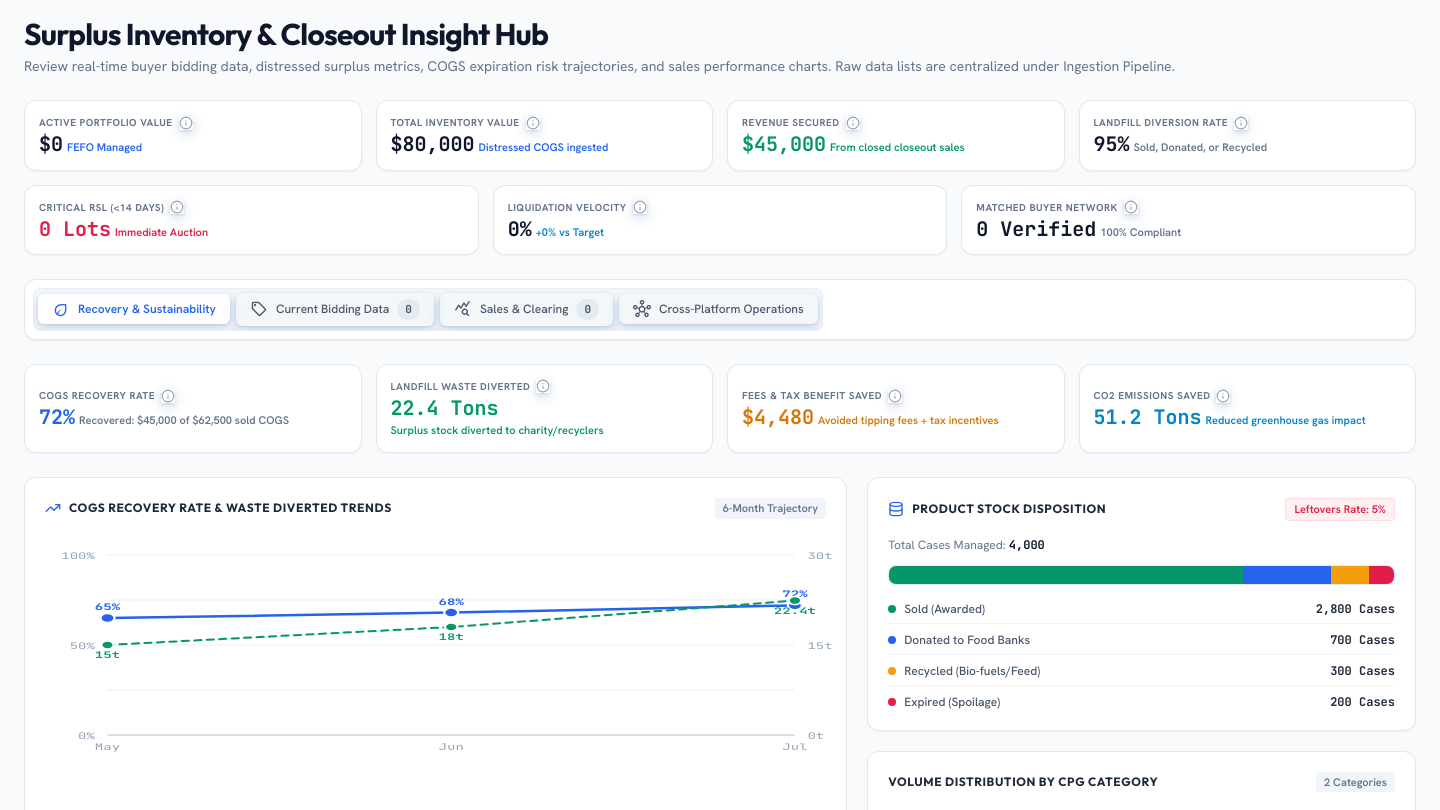
Centralized Insight Hub — Recovery & Sustainability Panel › should switch from recovery to bidding subtab when clicked
This screenshot has width=1440, height=810.
# Click the bidding tab
What coordinates should you click on to do the following:
click the tab "Current Bidding Data 0"
I would click on:
 (335, 309)
Its box is [236,293,434,326].
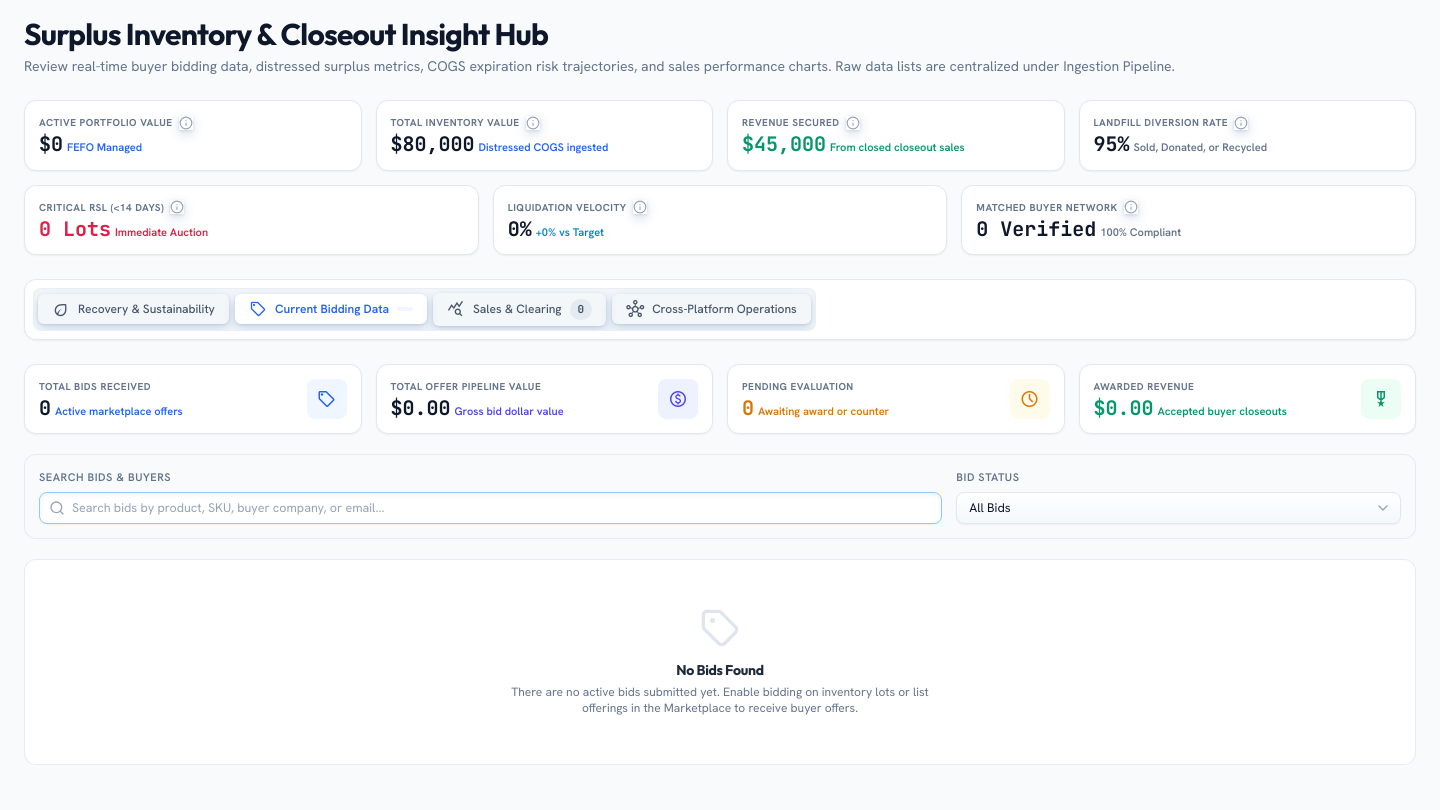
Result: the text "COGS Recovery Rate" is gone
